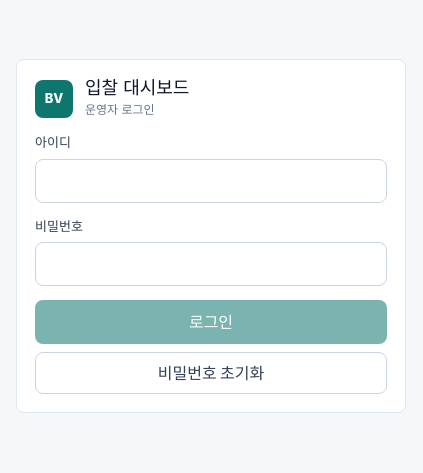
App routing + auth › shows a login failure message
Step 1. Type "operator" into the field labelled "아이디" → (211, 181), box [35, 159, 387, 203]
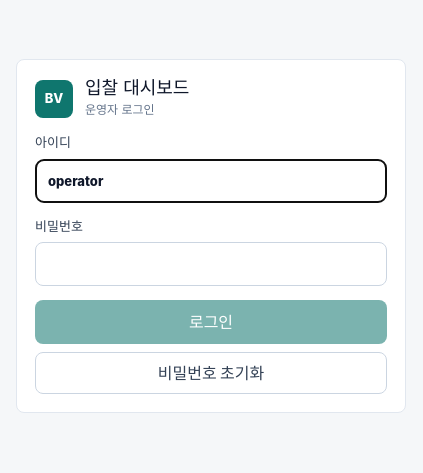
Step 2. Type "wrong" into the password field labelled "비밀번호" → (211, 264), box [35, 242, 387, 286]
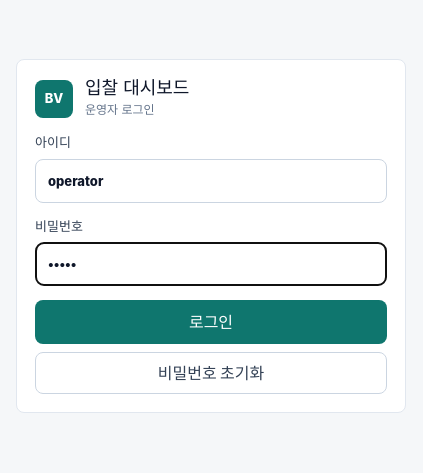
Step 3. Click the button "로그인" → (211, 322), box [35, 300, 387, 344]
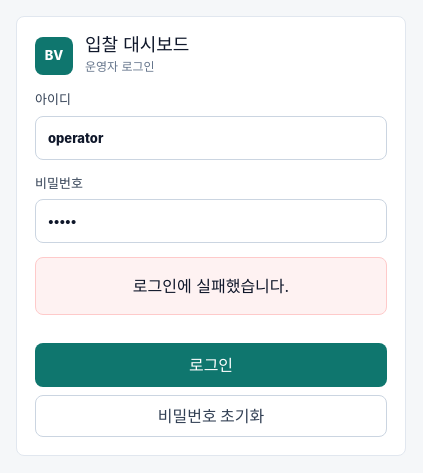
Expected: the text "로그인에 실패했습니다." is shown, [35, 257, 387, 315]
